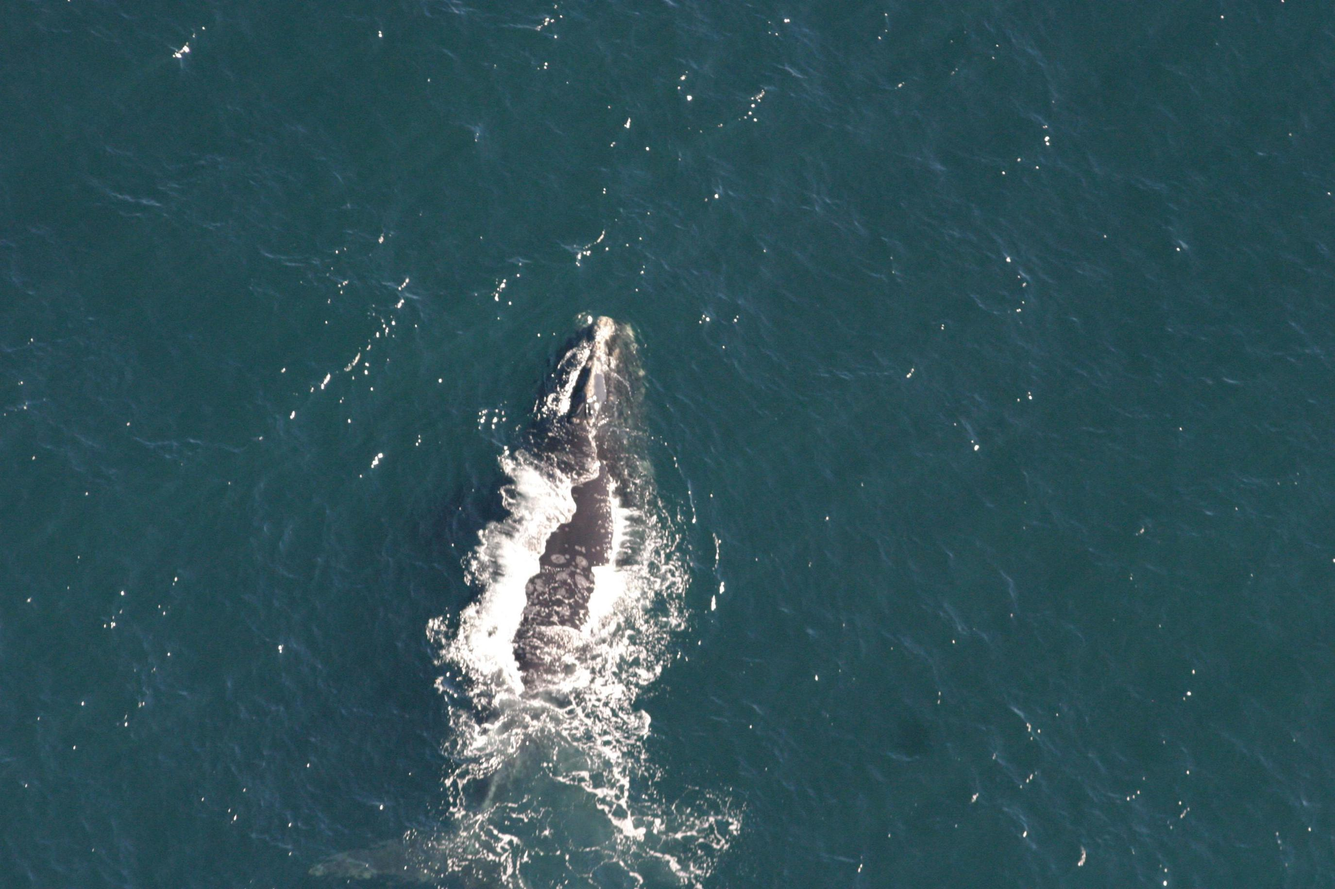whale: (301, 302, 682, 887)
